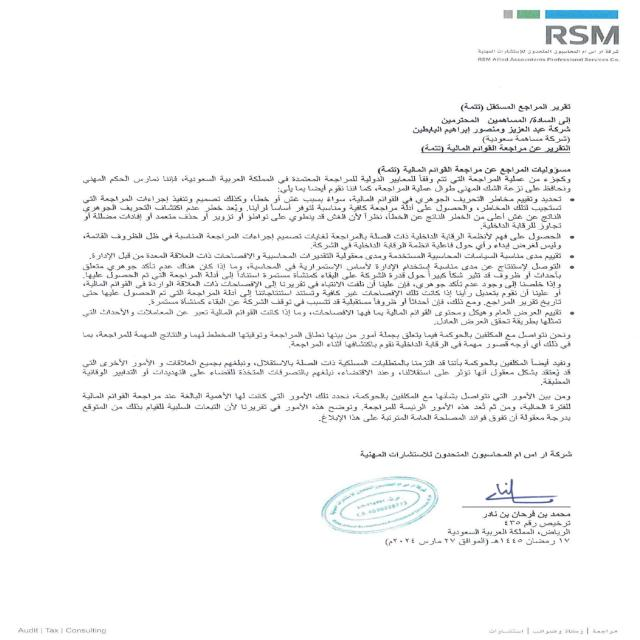auditor_report: (456, 97, 584, 114)
